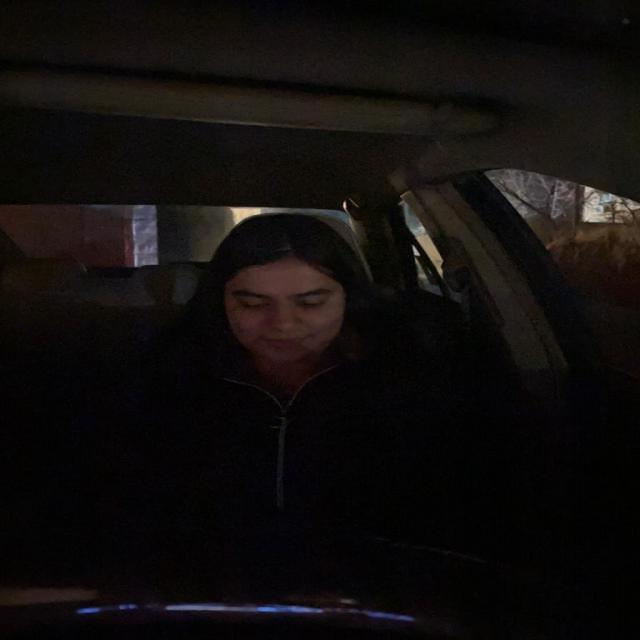drowsy: (198, 232, 357, 371)
